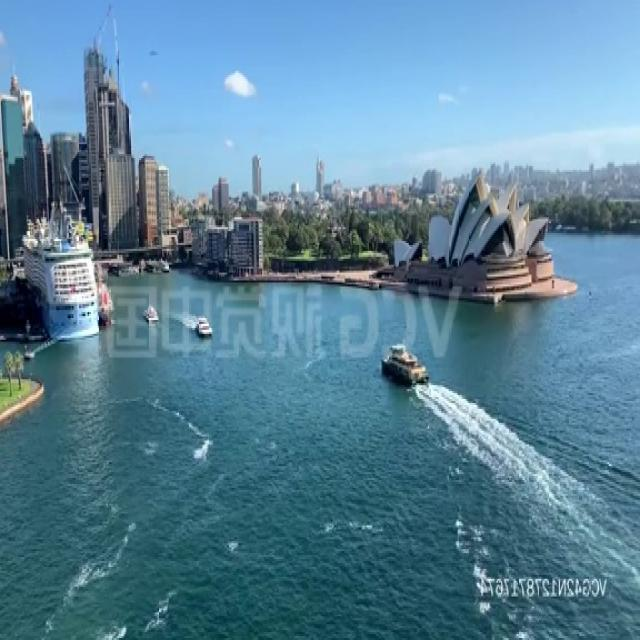houseboat: (381, 338, 432, 387), (144, 300, 160, 326), (198, 311, 212, 337)
passenger ship: (21, 194, 97, 342)
